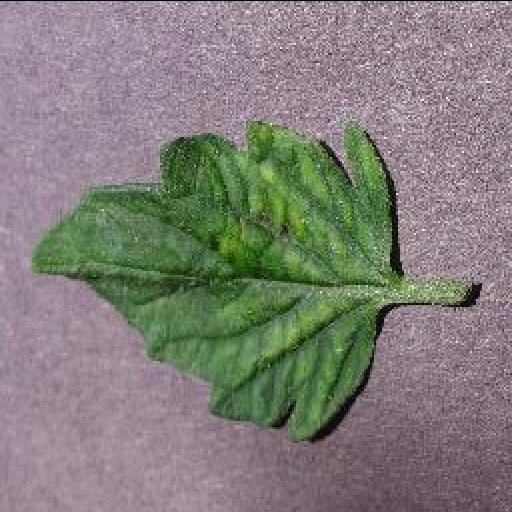Mosaic Virus: (26, 116, 396, 444)
